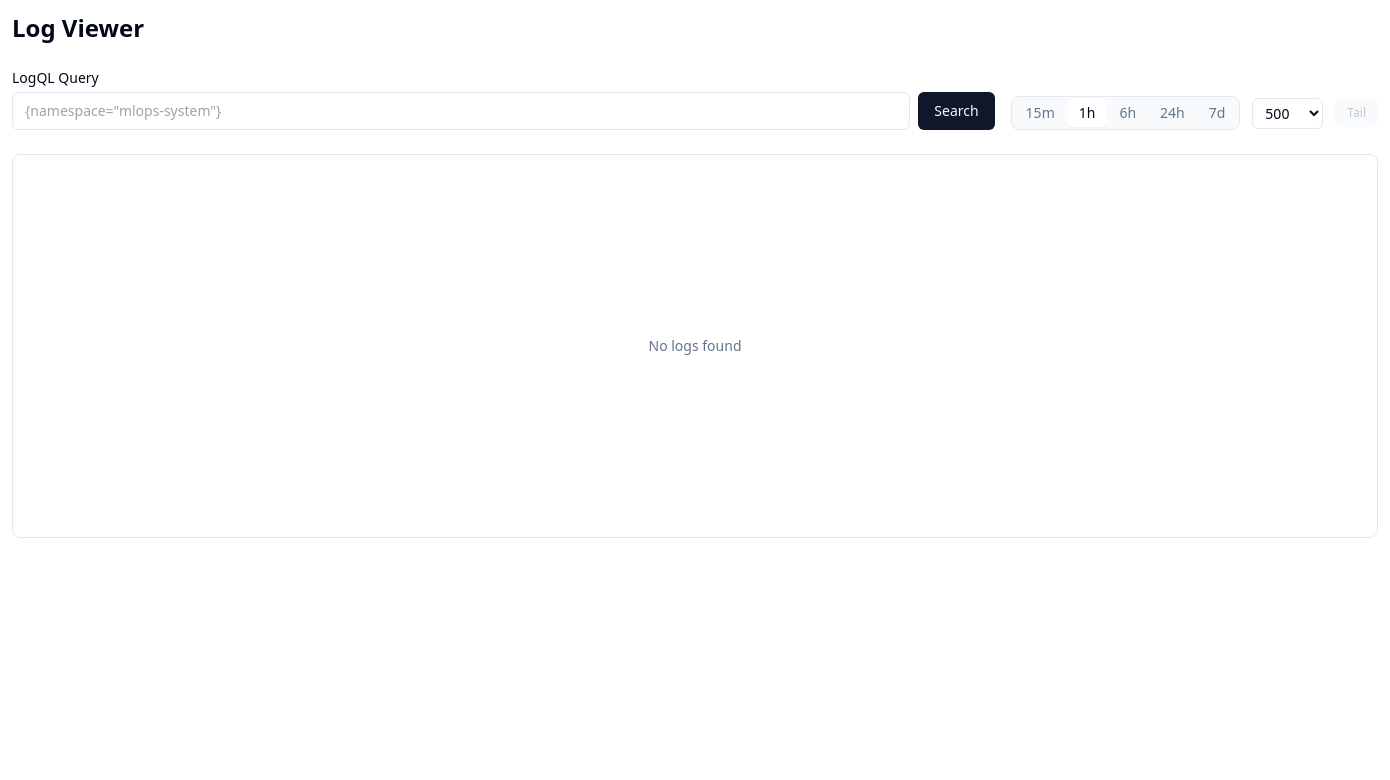
LogViewerPage › submits query on button click and shows logs
Type "app_logs" into the field labelled "LogQL Query" at (461, 111), box [12,92,910,130]
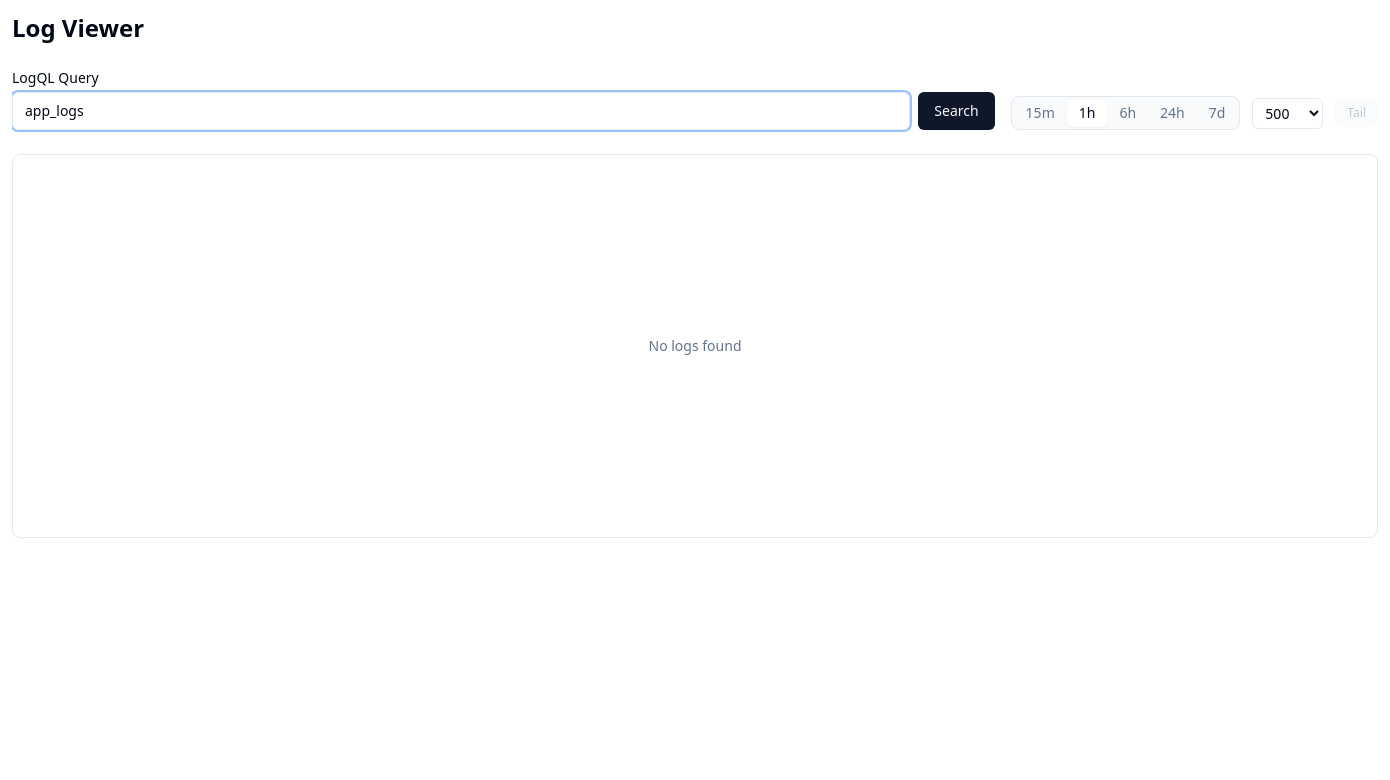
Click the button "Search" at (956, 111), box [918,92,995,130]
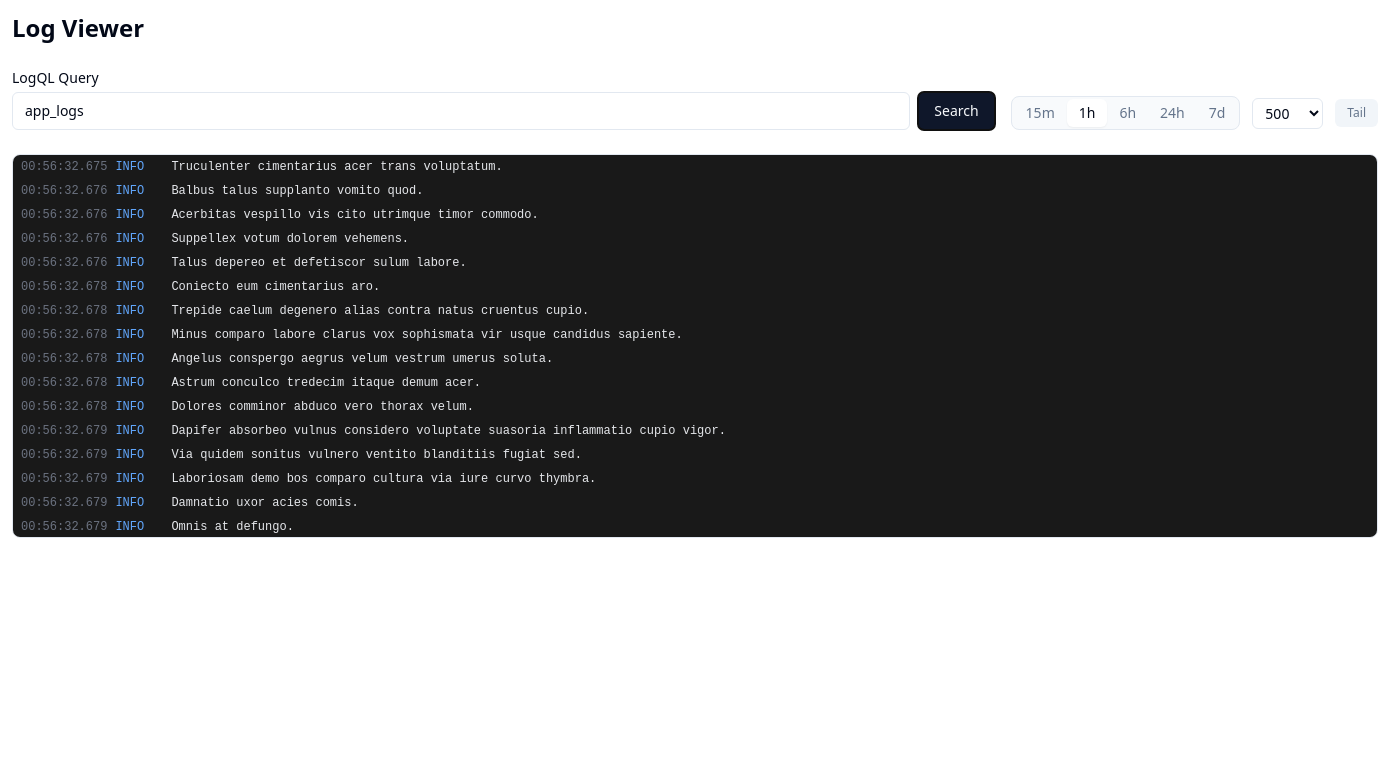
Expected: the text "No logs found" is gone
